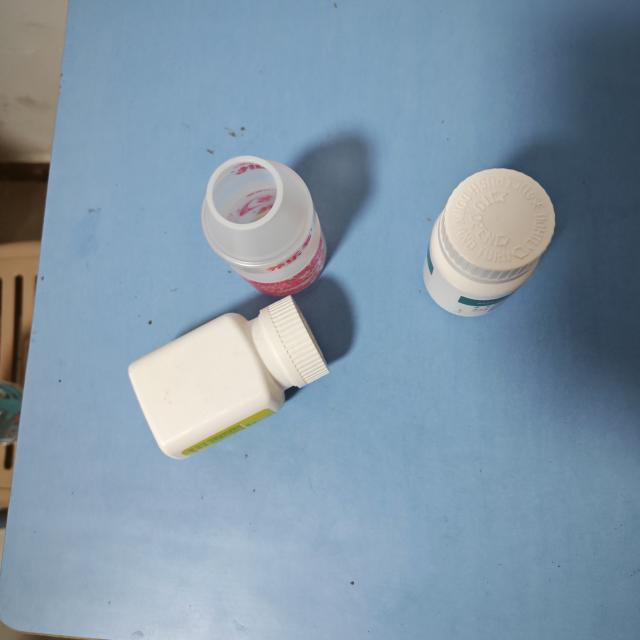-Recyclables - plastic bottle-: (119, 296, 333, 461), (425, 169, 557, 320), (199, 154, 334, 296)
